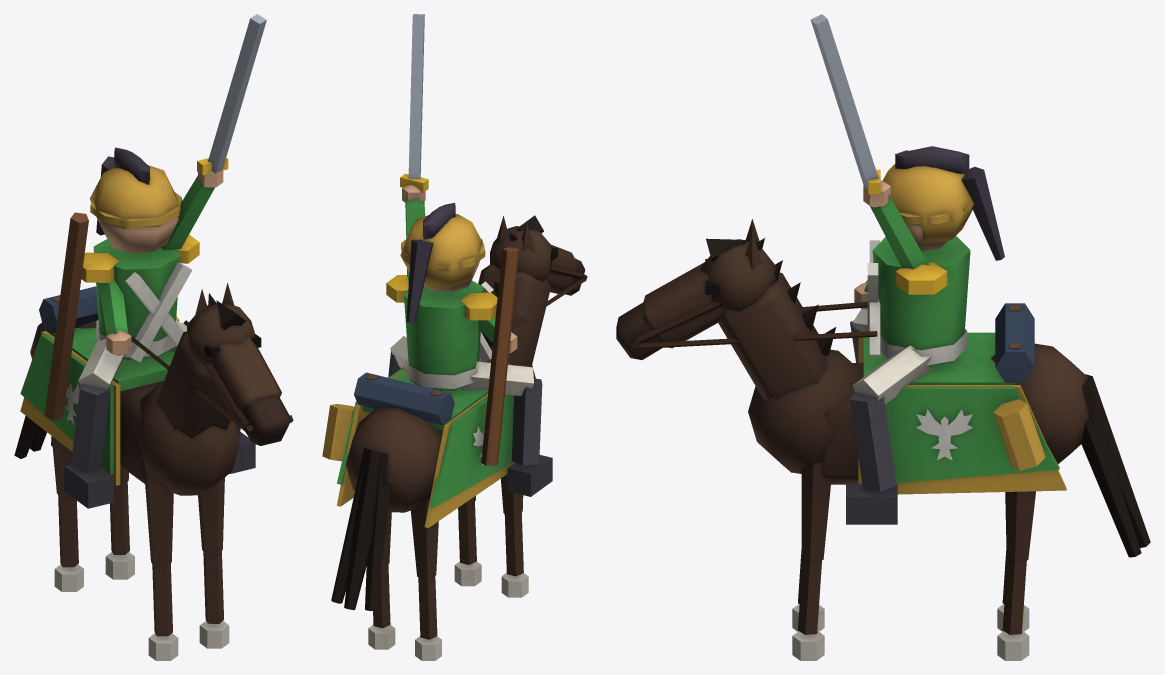
File: assault_dl4_green.glb
3 renders of one model, left to right at view 1: azimuth 30°, elevation 25°; view 2: azimuth 150°, elevation 25°; view 3: azimuth 270°, elevation 25°, orthographic. The views are drawn at different scales.
Parts seen in each view (by area): view 1: assault_dl4_green; view 2: assault_dl4_green; view 3: assault_dl4_green.
Boxes of the visible parts, x1,y1,x2,y2 form: assault_dl4_green: (14, 14, 293, 660); assault_dl4_green: (322, 14, 587, 660); assault_dl4_green: (616, 14, 1150, 660).
Size of the model in its own units: 0.2399 by 0.8222 by 0.6004.
1 material, 1 textured.
